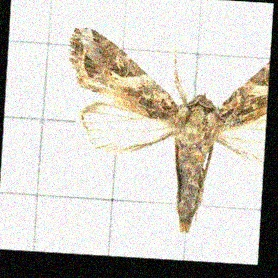Spodoptera litura: (62, 32, 265, 232)
